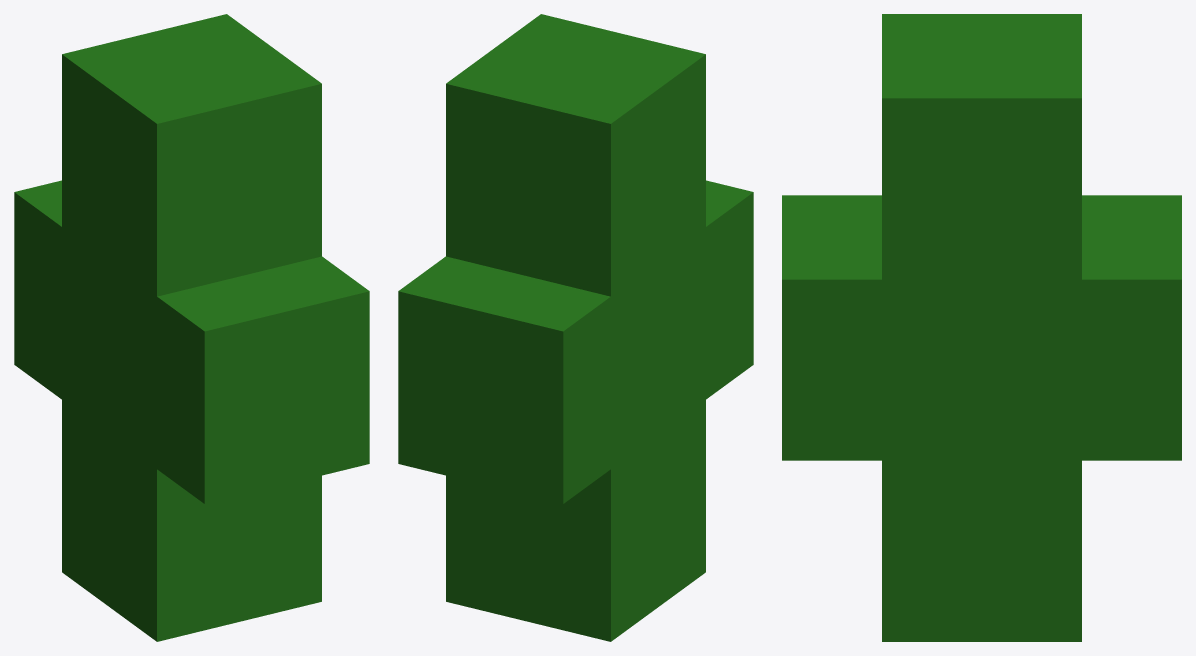
The model's file is zombie.glb.
3 views of the same model, side by side, from view 1: azimuth 30°, elevation 25°; view 2: azimuth 150°, elevation 25°; view 3: azimuth 270°, elevation 25° (orthographic). The views are drawn at different scales.
Parts seen in each view (by area): view 1: Cube; view 2: Cube; view 3: Cube.
Boxes of the visible parts, left/top/right/bottom form: Cube: left=14, top=14, right=369, bottom=641; Cube: left=398, top=14, right=753, bottom=641; Cube: left=782, top=14, right=1181, bottom=641.
Size of the model in its own units: 1 by 3 by 2.
